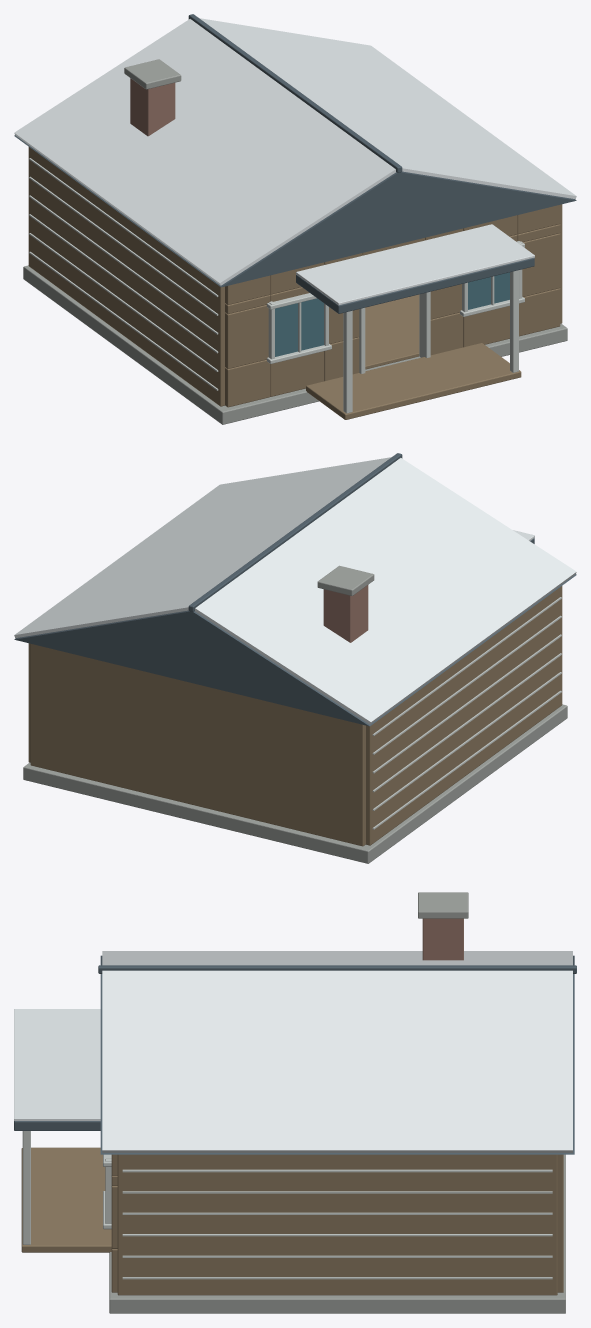
Rendered from resort_timber_cabin.glb.
The picture shows the model from 3 angles, top to bottom: view 1: azimuth 30°, elevation 25°; view 2: azimuth 150°, elevation 25°; view 3: azimuth 270°, elevation 25°; orthographic projection. The views are drawn at different scales.
Visible parts, largest first — view 1: resort_timber_cabin; view 2: resort_timber_cabin; view 3: resort_timber_cabin.
Part boxes in pixels (bbox=[...]): resort_timber_cabin: bbox=[14, 14, 576, 424]; resort_timber_cabin: bbox=[14, 453, 576, 863]; resort_timber_cabin: bbox=[14, 892, 576, 1313].
Size of the model in its own units: 8.58 by 5.25 by 10.23.
